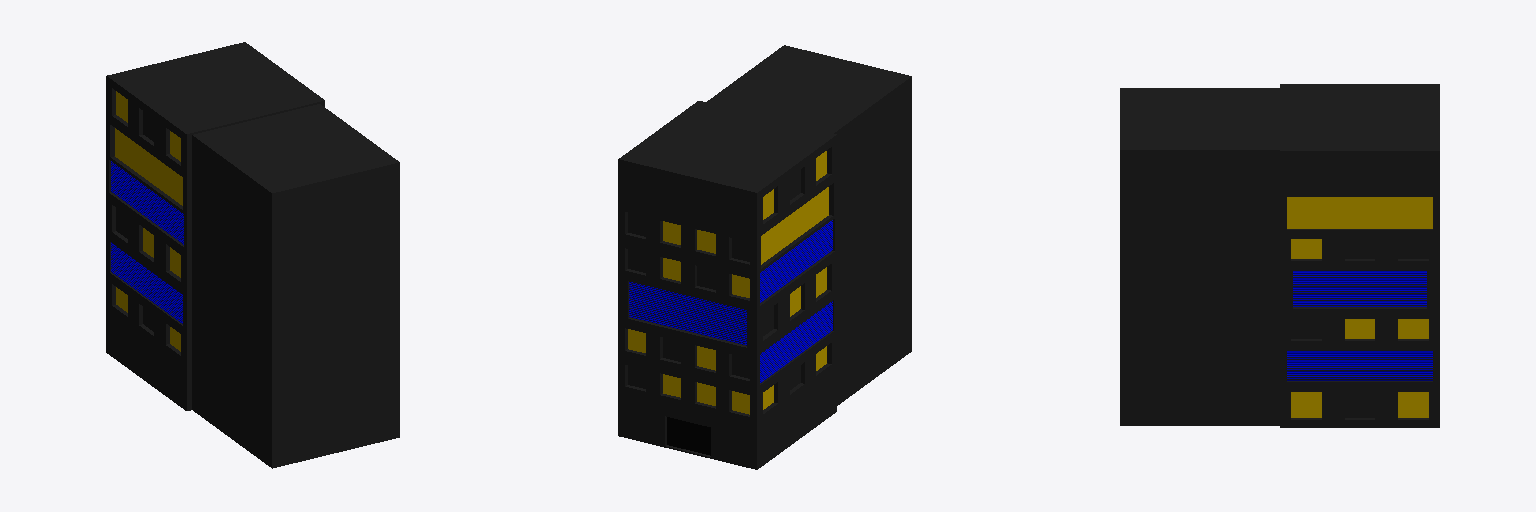
The model's file is 1Generic-Tall-Building.obj.
3 views of the same model, side by side, from view 1: azimuth 30°, elevation 25°; view 2: azimuth 150°, elevation 25°; view 3: azimuth 270°, elevation 25° (orthographic).
Parts seen in each view (by area): view 1: Cube.051_Cube.087, Cube.050_Cube.086, Vert.253_Vert.265, Vert.252_Vert.264; view 2: Cube.050_Cube.086, Cube.051_Cube.087, Vert.251_Vert.263, Vert.253_Vert.265, Vert.252_Vert.264; view 3: Cube.051_Cube.087, Cube.050_Cube.086, Vert.255_Vert.267, Vert.254_Vert.266.
Part boxes in pixels (bbox=[...]): Cube.051_Cube.087: bbox=[192, 104, 399, 468]; Cube.050_Cube.086: bbox=[106, 42, 324, 410]; Vert.253_Vert.265: bbox=[111, 161, 183, 244]; Vert.252_Vert.264: bbox=[111, 242, 182, 323]; Cube.050_Cube.086: bbox=[618, 101, 836, 469]; Cube.051_Cube.087: bbox=[707, 45, 911, 405]; Vert.251_Vert.263: bbox=[629, 282, 746, 345]; Vert.253_Vert.265: bbox=[760, 220, 832, 302]; Vert.252_Vert.264: bbox=[760, 301, 832, 382]; Cube.051_Cube.087: bbox=[1120, 88, 1279, 425]; Cube.050_Cube.086: bbox=[1280, 84, 1439, 427]; Vert.255_Vert.267: bbox=[1293, 271, 1426, 306]; Vert.254_Vert.266: bbox=[1287, 351, 1432, 380].
Size of the model in its own units: 12 by 22.9 by 24.